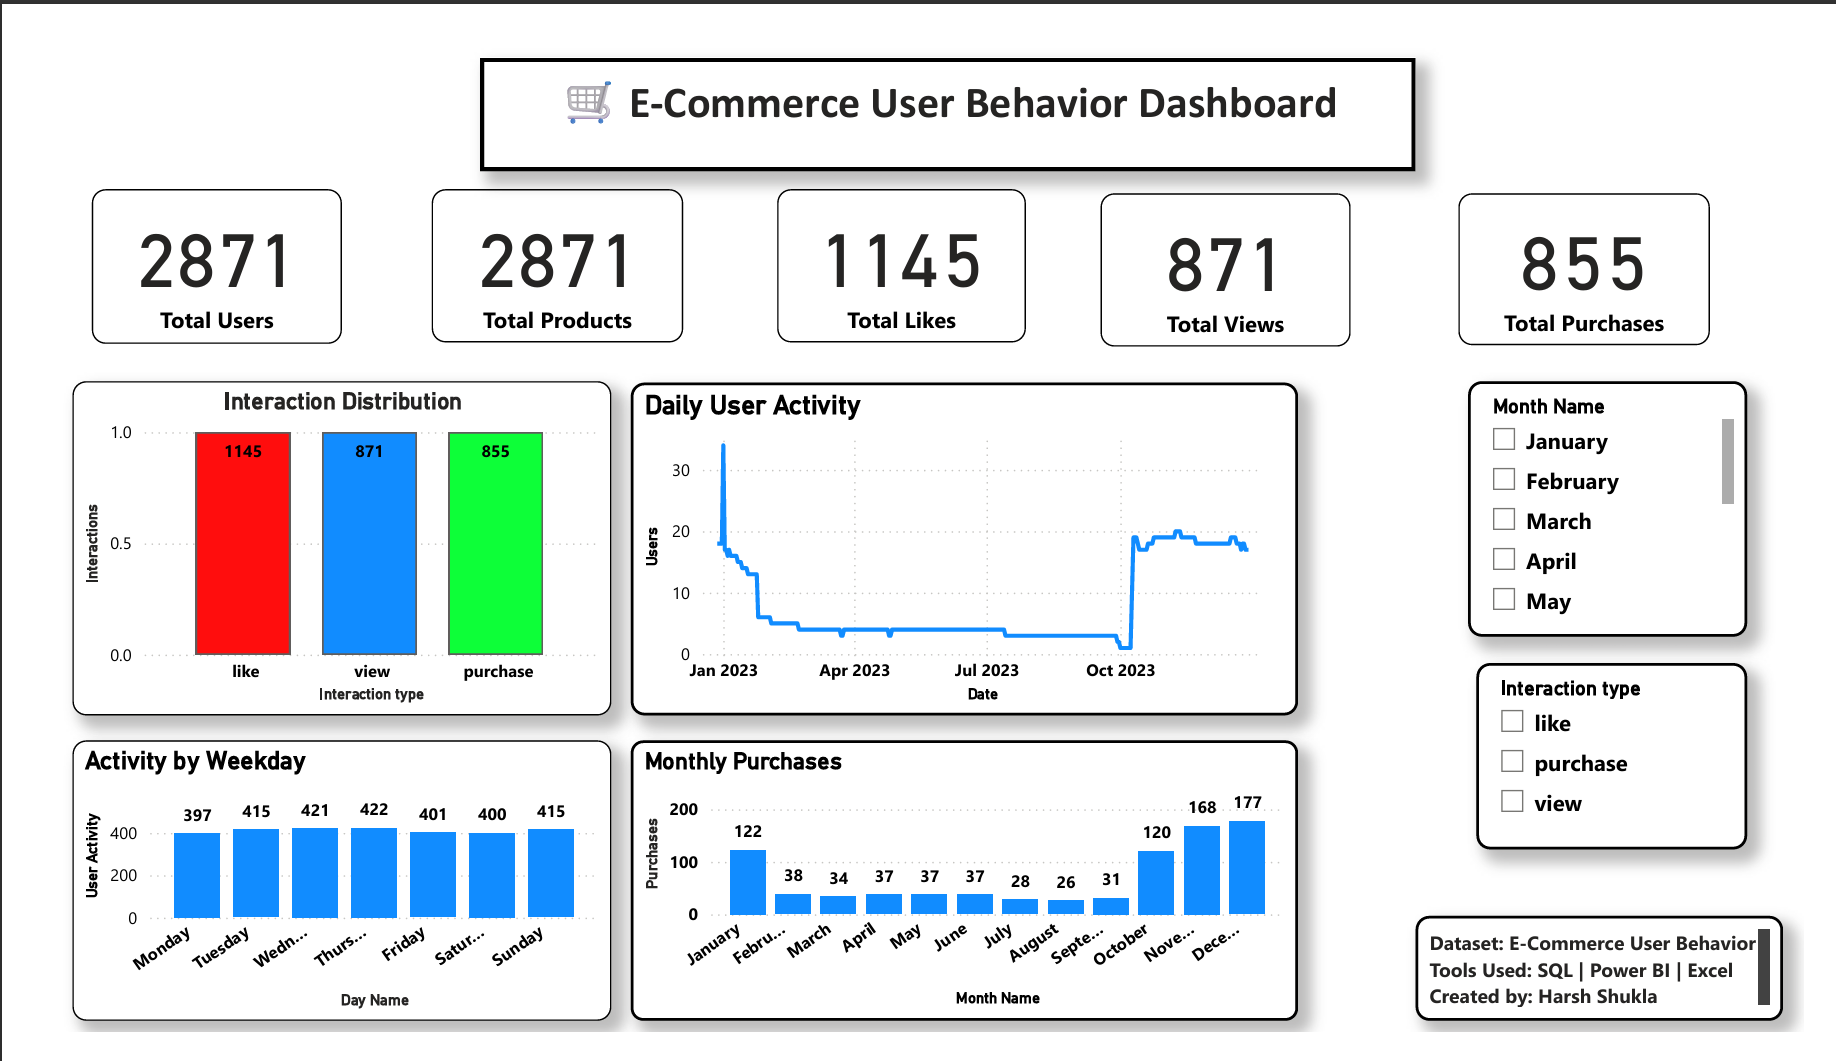

Layout of this report page (visuals, bound fields, positions):
{"tool":"powerbi","page":{"name":"Page 1","canvas":[1280,720],"ordinal":0},"visuals":[{"type":"card","fields":{"Values":["cleaned_ecommerce_data.Total Users"]},"box":[40.6,110.5,181.5,111.6],"z":0},{"type":"card","fields":{"Values":["cleaned_ecommerce_data.Total Purchases"]},"box":[1030.2,112.7,181.5,110.5],"z":1000},{"type":"card","fields":{"Values":["cleaned_ecommerce_data.Total Products"]},"box":[287.4,110.5,181.5,110.5],"z":2000},{"type":"clusteredColumnChart","title":"Interaction Distribution","fields":{"Category":["cleaned_ecommerce_data.Interaction type"],"Y":["CountNonNull(cleaned_ecommerce_data.Interaction type)"]},"box":[27.1,249.1,390,242.3],"z":3000},{"type":"textbox","box":[322.4,14.7,676.3,82.3],"z":4000},{"type":"card","fields":{"Values":["cleaned_ecommerce_data.Total Likes"]},"box":[536.5,110.5,180.3,110.5],"z":5000},{"type":"card","fields":{"Values":["cleaned_ecommerce_data.Total Views"]},"box":[770.9,112.7,181.5,111.6],"z":6000},{"type":"lineChart","title":"Daily User Activity","fields":{"Y":["CountNonNull(cleaned_ecommerce_data.user id)"],"Category":["cleaned_ecommerce_data.Date"]},"box":[430.6,250.2,483.5,241.2],"z":7000},{"type":"clusteredColumnChart","title":"Activity by Weekday","fields":{"Category":["cleaned_ecommerce_data.Day Name"],"Y":["CountNonNull(cleaned_ecommerce_data.user id)"]},"box":[27.1,509.5,390,202.9],"z":8000},{"type":"clusteredColumnChart","title":"Monthly Purchases","fields":{"Category":["cleaned_ecommerce_data.Month Name"],"Y":["CountNonNull(cleaned_ecommerce_data.product id)"]},"box":[430.6,509.5,483.5,202.9],"z":8001},{"type":"slicer","fields":{"Values":["cleaned_ecommerce_data.Month Name"]},"box":[1036.9,249.1,201.8,184.8],"z":8002},{"type":"slicer","fields":{"Values":["cleaned_ecommerce_data.Interaction type"]},"box":[1042.6,453.1,196.1,135.3],"z":8003},{"type":"textbox","box":[998.6,635.7,266,76.6],"z":8004}]}

Visuals, with their boxes in screenshot pixels (x1, y1, x2, y2), scaled from the page's 1280x720 canvas onto the 1836x1061 screenshot:
card - cleaned_ecommerce_data.Total Users: 58 163 319 327
card - cleaned_ecommerce_data.Total Purchases: 1478 166 1738 329
card - cleaned_ecommerce_data.Total Products: 412 163 673 326
"Interaction Distribution" clusteredColumnChart: 39 367 598 724
textbox: 462 22 1433 143
card - cleaned_ecommerce_data.Total Likes: 770 163 1028 326
card - cleaned_ecommerce_data.Total Views: 1106 166 1366 331
"Daily User Activity" lineChart: 618 369 1311 724
"Activity by Weekday" clusteredColumnChart: 39 751 598 1050
"Monthly Purchases" clusteredColumnChart: 618 751 1311 1050
slicer - cleaned_ecommerce_data.Month Name: 1487 367 1777 639
slicer - cleaned_ecommerce_data.Interaction type: 1495 668 1777 867
textbox: 1432 937 1814 1050
